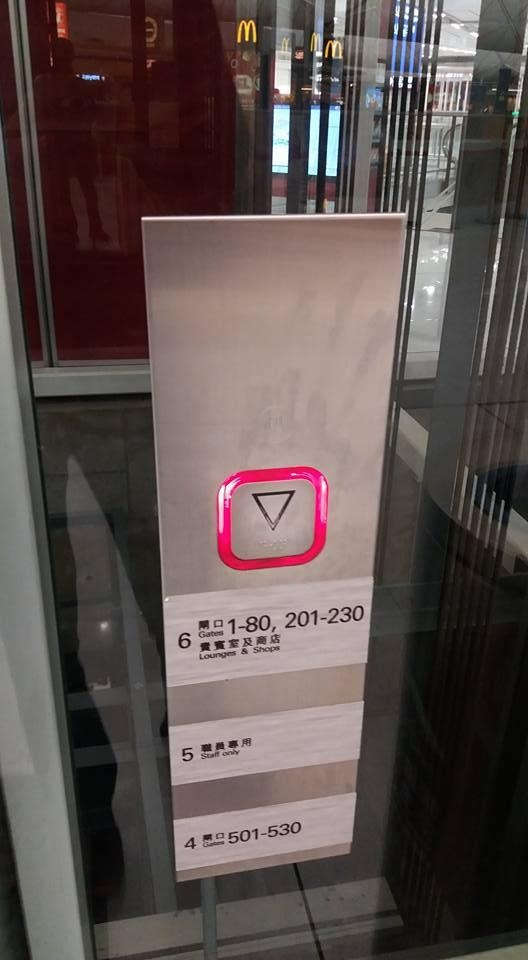down: (215, 467, 331, 571)
